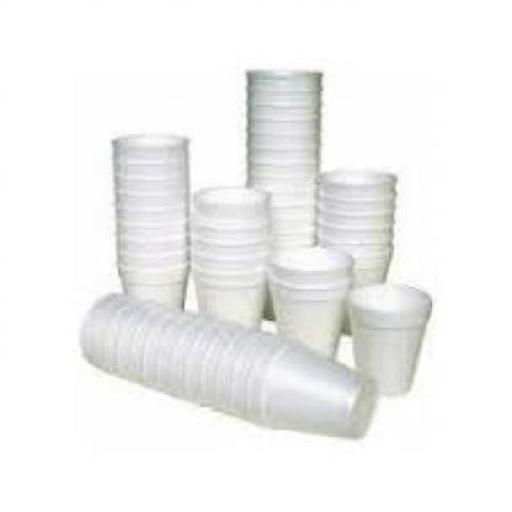paper: (75, 289, 375, 437), (244, 68, 322, 318), (109, 134, 186, 305), (244, 339, 373, 439), (191, 187, 268, 323), (344, 282, 428, 400), (266, 246, 352, 357), (314, 166, 391, 282), (269, 278, 348, 360)
